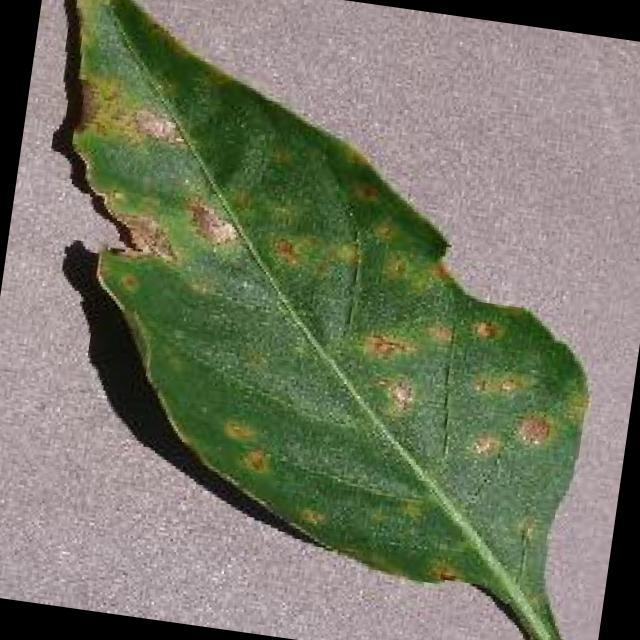Chilli_Bacterial_Spot: (0, 0, 640, 640), (196, 263, 594, 600), (340, 293, 577, 477), (104, 202, 186, 270), (210, 410, 282, 480), (174, 190, 246, 253), (126, 102, 190, 152), (368, 368, 422, 422), (466, 362, 532, 404), (355, 326, 419, 368), (509, 408, 556, 451), (233, 440, 275, 480), (264, 230, 306, 270), (462, 426, 506, 464), (376, 245, 413, 287), (214, 412, 258, 447), (466, 310, 505, 346), (508, 509, 540, 550), (291, 500, 329, 532), (424, 560, 462, 590)
